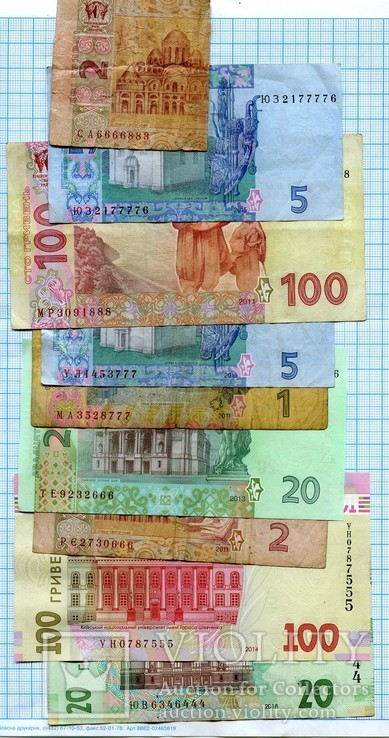bn_1: (25, 388, 333, 430)
bn_100: (6, 224, 375, 324)
bn_2: (46, 0, 210, 150), (35, 519, 328, 556)
bn_20: (23, 432, 340, 516)
bn_5: (50, 153, 343, 217), (43, 331, 334, 387)
